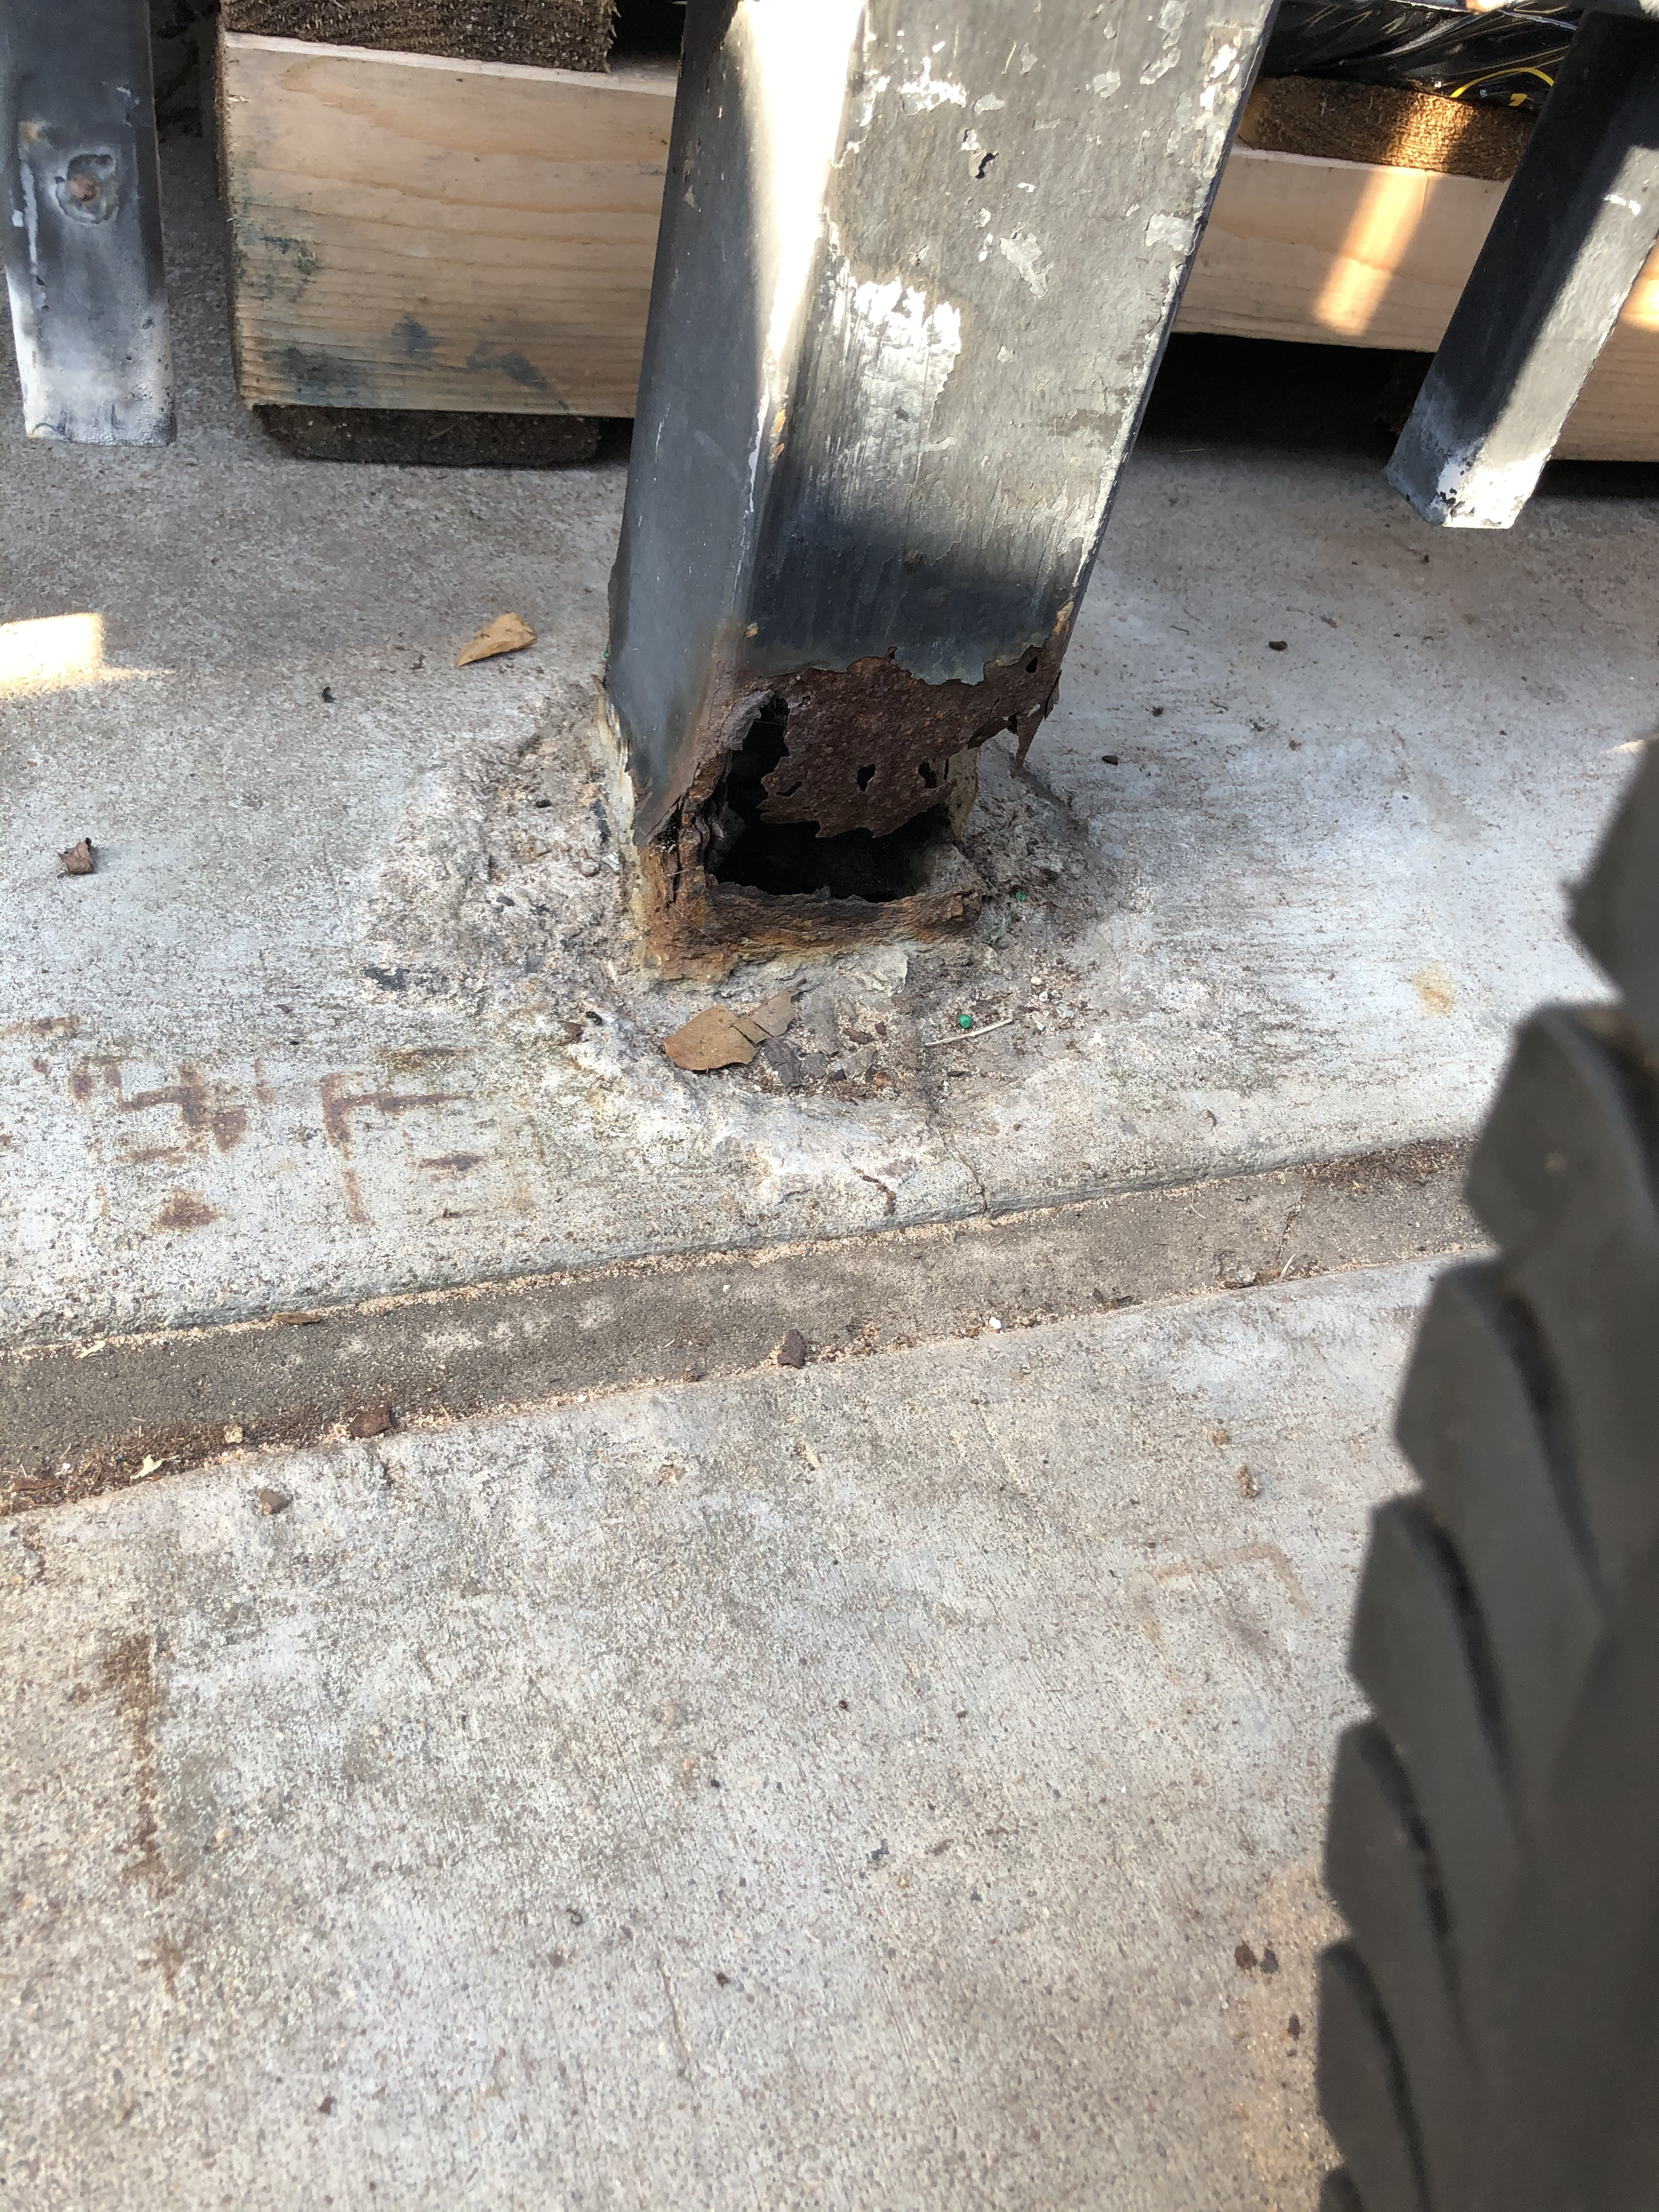rust: (781, 683, 969, 822)
